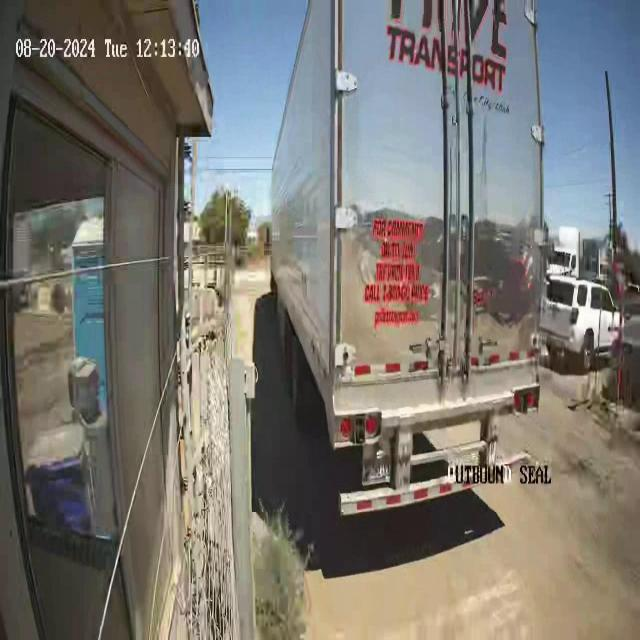TRUCK_CONTAINER: (269, 1, 547, 515)
